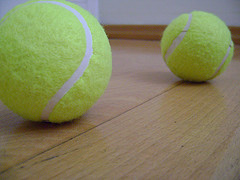tennis ball: (1, 1, 116, 127), (159, 9, 236, 86)
